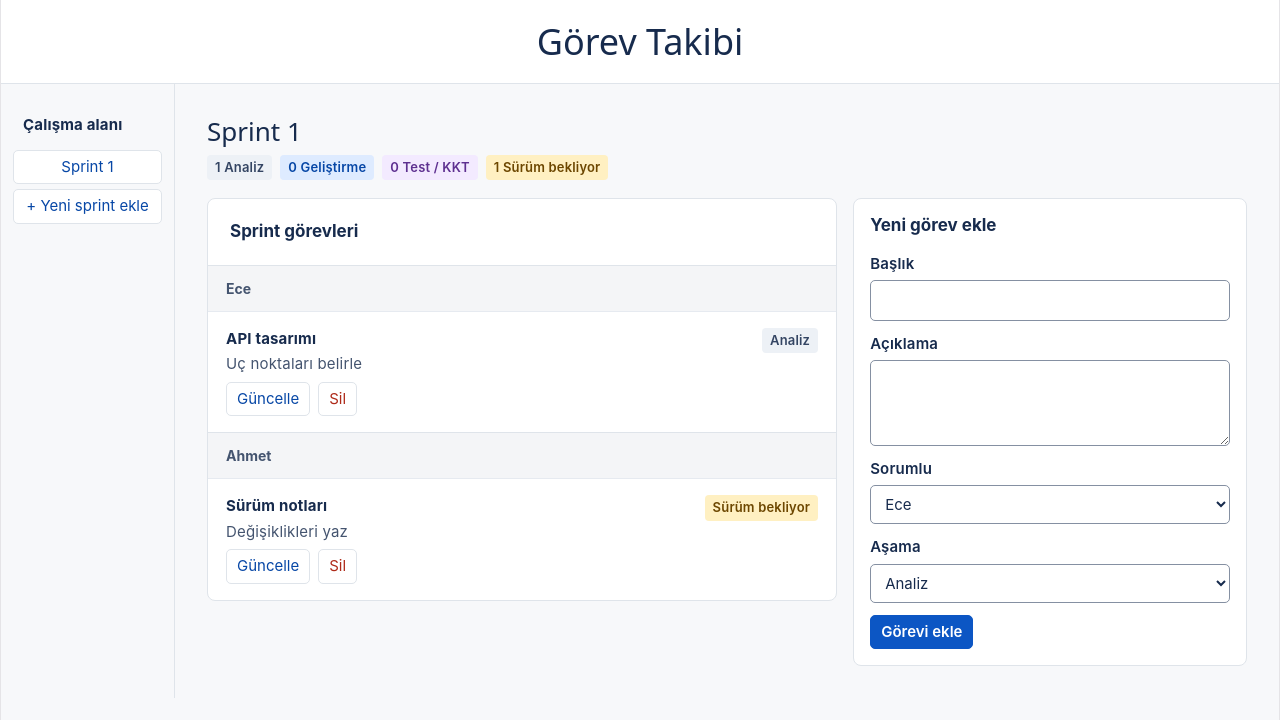
Test case: App › API silmeyi desteklemiyorsa açıklayıcı hata verir
What coordinates should you click on to do the following:
click the button "Sil" below "API tasarımı"
I would click on:
 (338, 399)
Its box is [318,382,357,416].
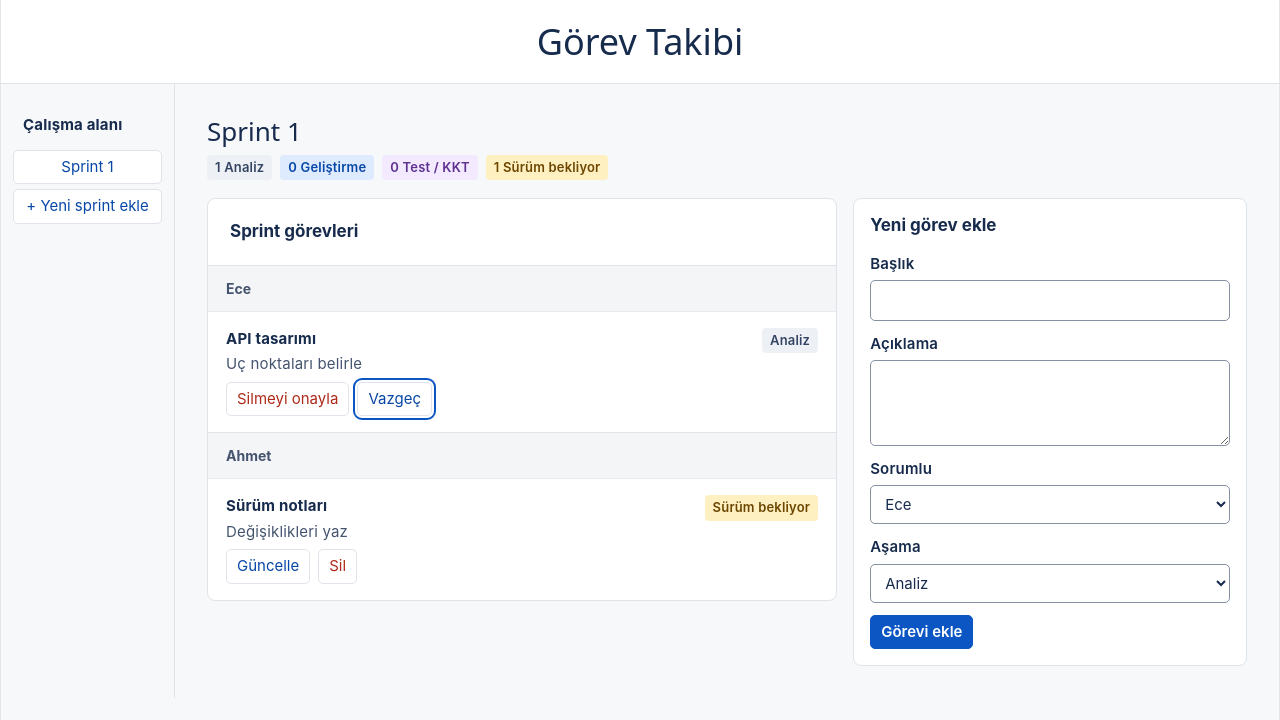
What coordinates should you click on to do the following:
click the button "Silmeyi onayla"
I would click on:
 (288, 399)
Its box is [226,382,349,416].
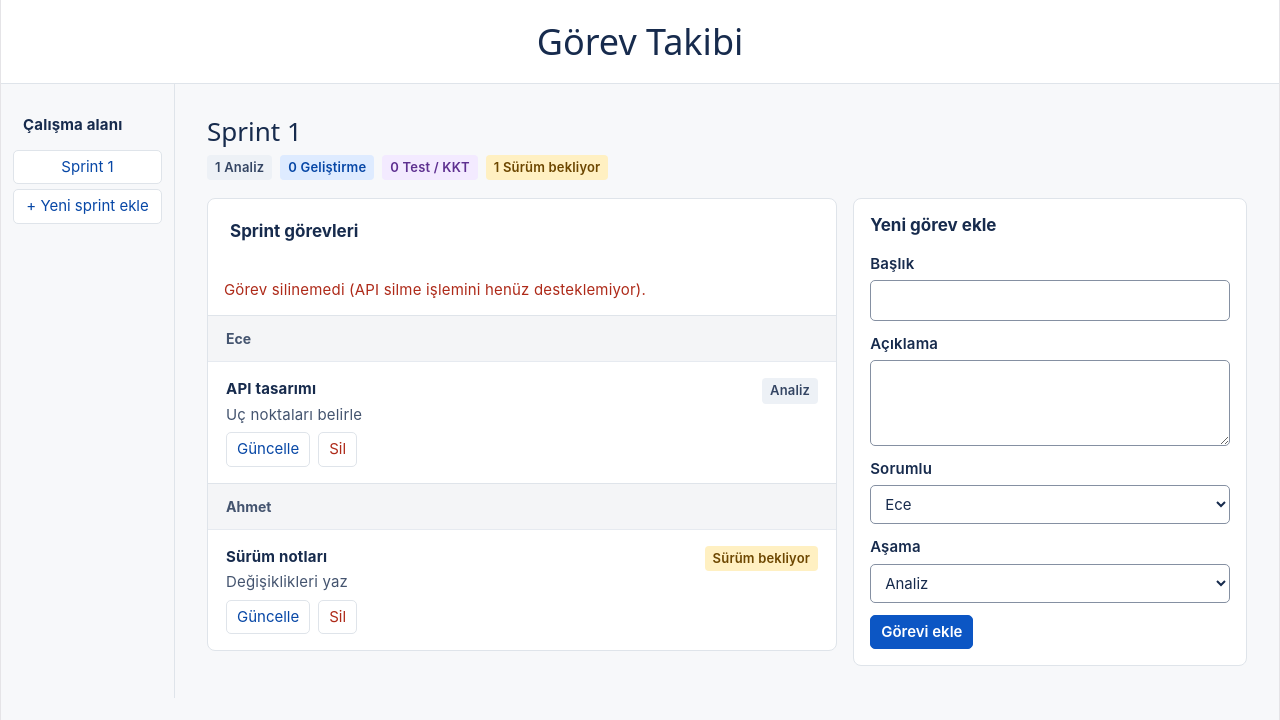
Expected: the text "API tasarımı" is shown, [226,379,316,398]
Expected: the message reads "Görev silinemedi (API silme işlemini henüz desteklemiyor).", [224,280,646,299]
